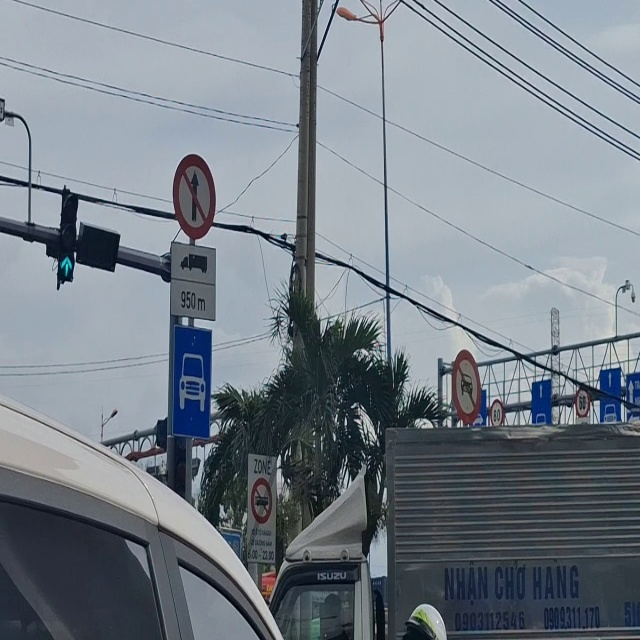cam oto: (443, 333, 491, 424)
